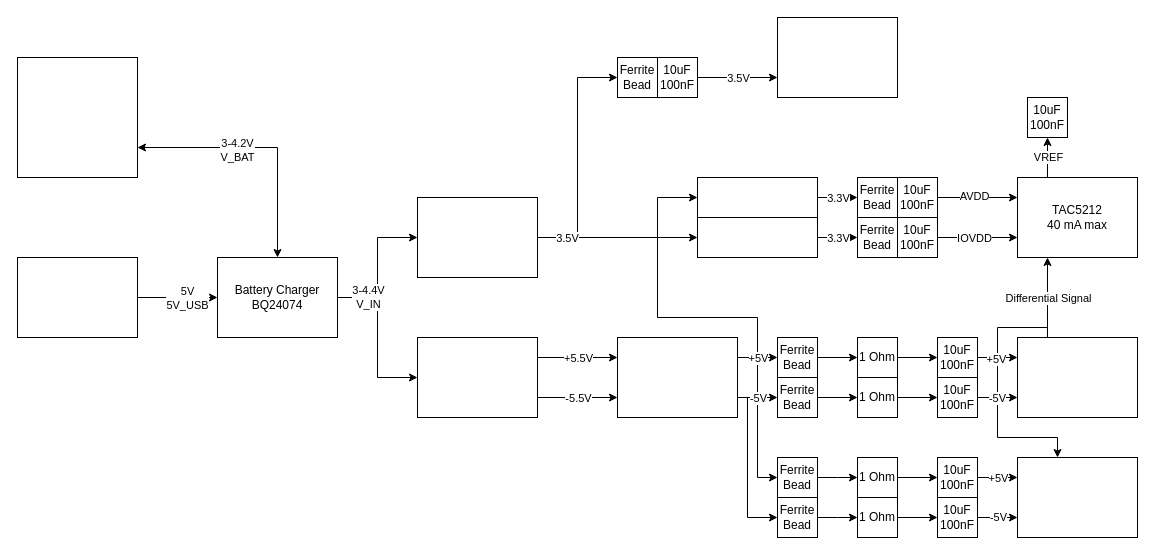
Image size: 1155x555. Some labels were removed from this diagram. The box of each missing label's shape, as (x1, y1, x2, y2) in pixels:
Buck Boost TPS63000: (416, 196, 538, 278)
Dual Buck Boost TPS65132: (416, 336, 538, 418)
Dual Low Noise LDO TPS7A39: (616, 336, 738, 418)
ESP32-S3-WROOM 500 mA burst: (776, 16, 898, 98)
InAmp LTC6373 20 mA max: (1016, 336, 1138, 418)
LiPo Akku 1S 3-4.2V TBD mAh Builtin Protection Würth Style Connector: (16, 56, 138, 178)
Low Noise LDO TPS7A2033: (696, 216, 818, 258)
OpAmp OPA376 DRL: (1016, 456, 1138, 538)
Ultra Low Noise LDO TPS7A94: (696, 176, 818, 218)
USB-C Port 5V in Debugging: (16, 256, 138, 338)
